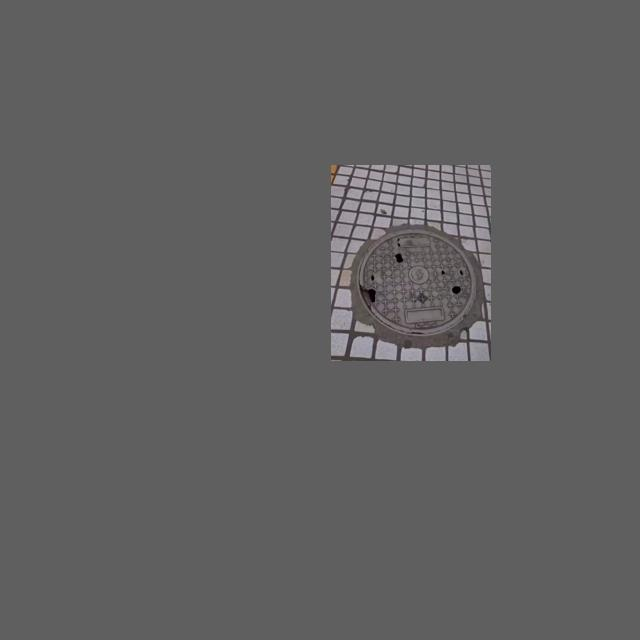broke: (358, 231, 476, 336)
